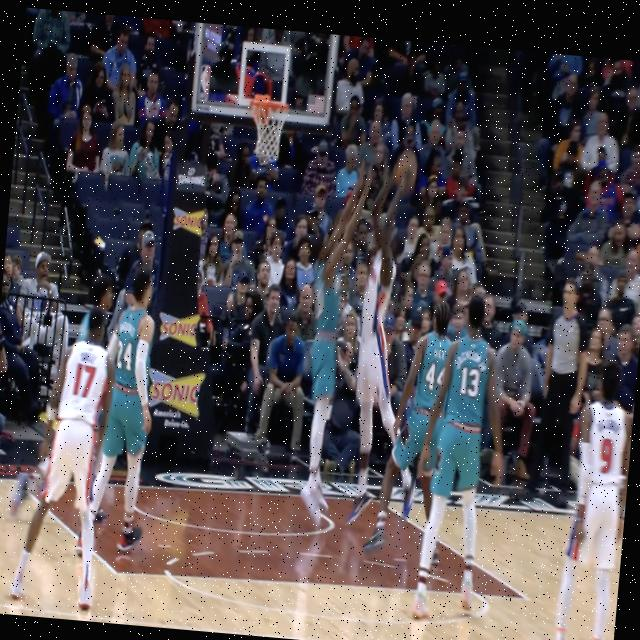no foul: (289, 130, 435, 550), (373, 270, 512, 626), (412, 292, 518, 640)
